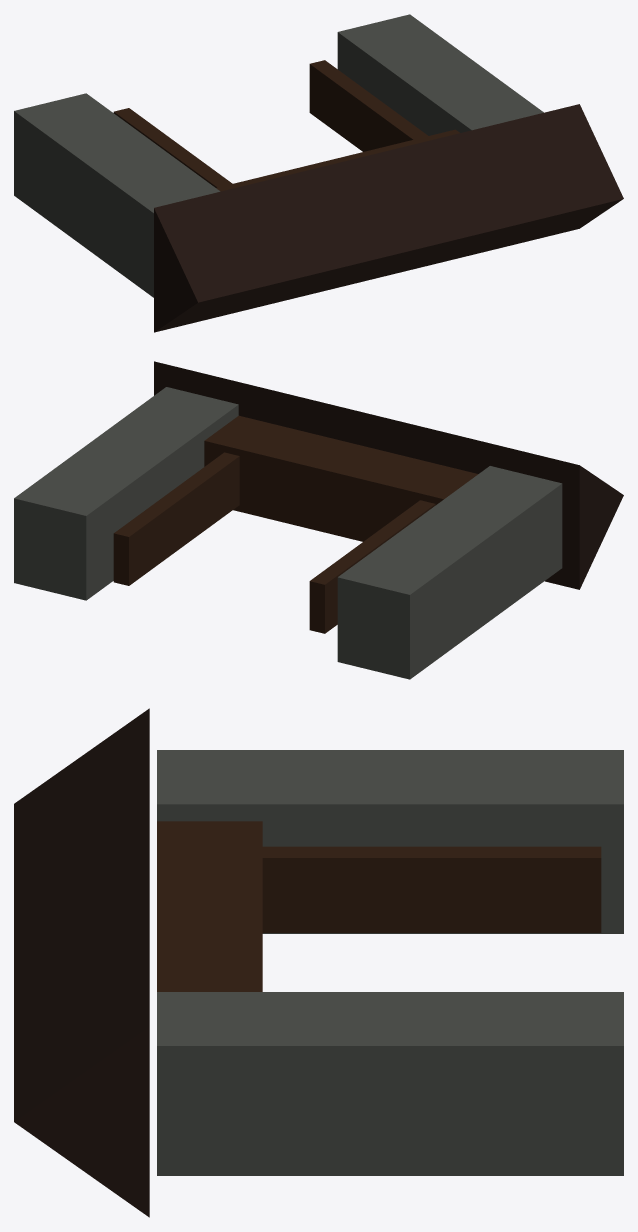
Rendered from SM_BreeGate.obj.
The picture shows the model from 3 angles, top to bottom: view 1: azimuth 30°, elevation 25°; view 2: azimuth 150°, elevation 25°; view 3: azimuth 270°, elevation 25°; orthographic projection. The views are drawn at different scales.
Parts seen in each view (by area): view 1: SM_BreeGate; view 2: SM_BreeGate; view 3: SM_BreeGate.
Part boxes in pixels (bbox=[...]): SM_BreeGate: bbox=[14, 14, 623, 332]; SM_BreeGate: bbox=[14, 361, 623, 679]; SM_BreeGate: bbox=[14, 708, 623, 1217].
Bounding box in the file's own units: 500 × 140 × 405.
